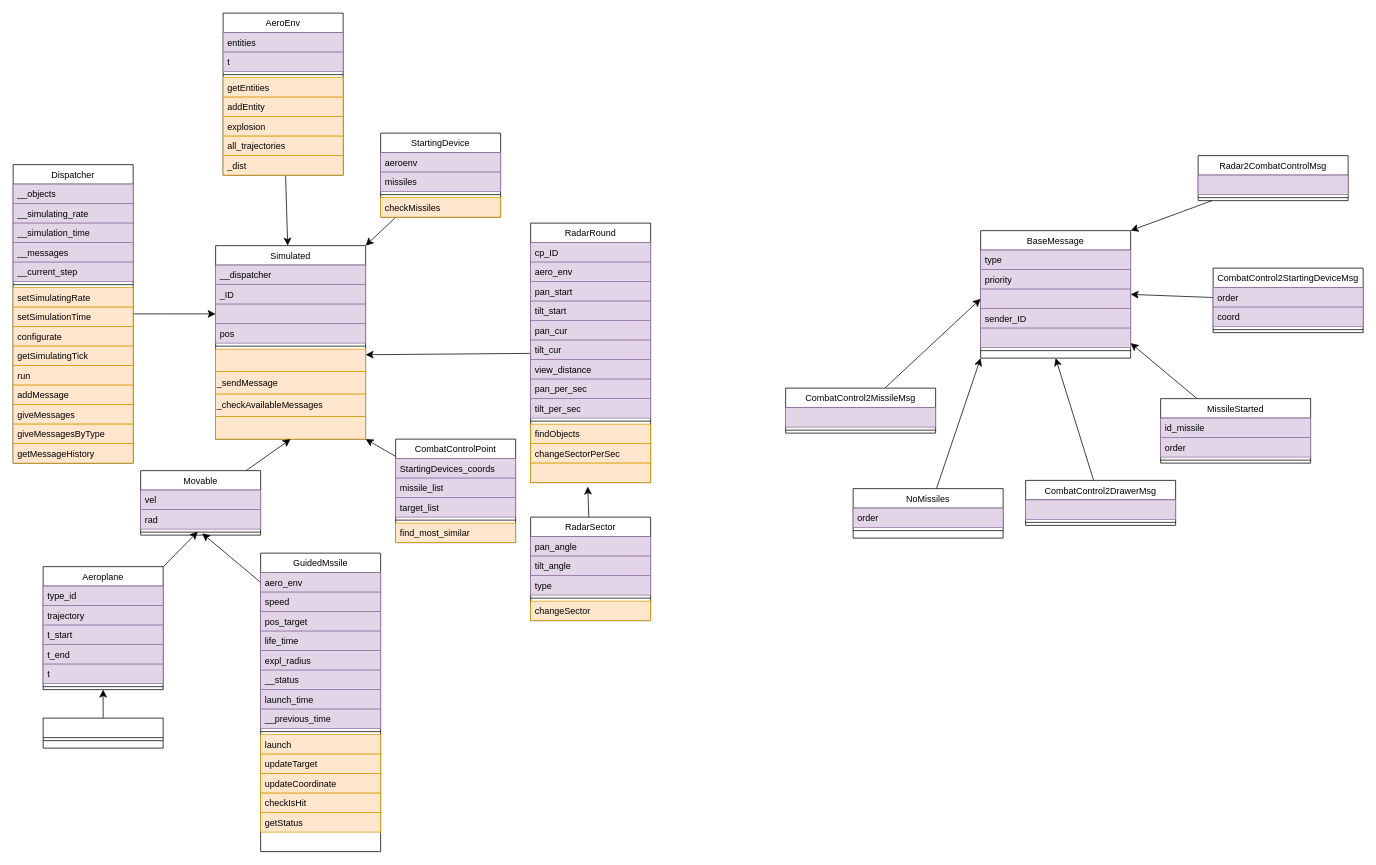
Some shapes in this 1376 by 865 pixel diagram are drawn without their labels. Here are the shapes that lost their labels. From the top down, the centre of each, then its label:
At point (1272, 184): "visible_objects".
At point (290, 313): "_simulating_tick".
At point (1055, 298): "time".
At point (1055, 337): "receiver_ID".
At point (290, 360): "runSimulationStep".
At point (290, 427): "_checkAvailableMessagesByType".
At point (860, 417): "new_target_coord".
At point (590, 472): "moveToNextSector".
At point (1100, 509): "coordinates".
At point (102, 732): "Helicopter".
